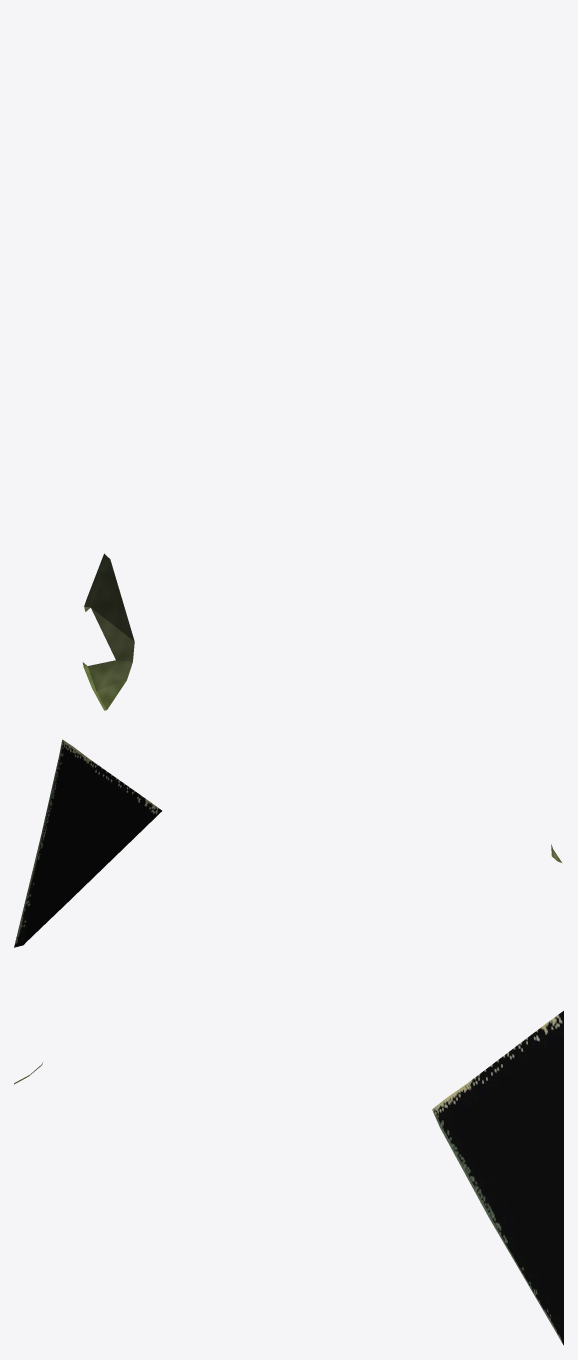
3 renders of one model, top to bottom at view 1: azimuth 30°, elevation 25°; view 2: azimuth 150°, elevation 25°; view 3: azimuth 270°, elevation 25°, orthographic. The views are drawn at different scales.
Bounding box in the file's own units: 5.9 × 2.8 × 5.9.
Materials: 1 (1 with a texture image).
